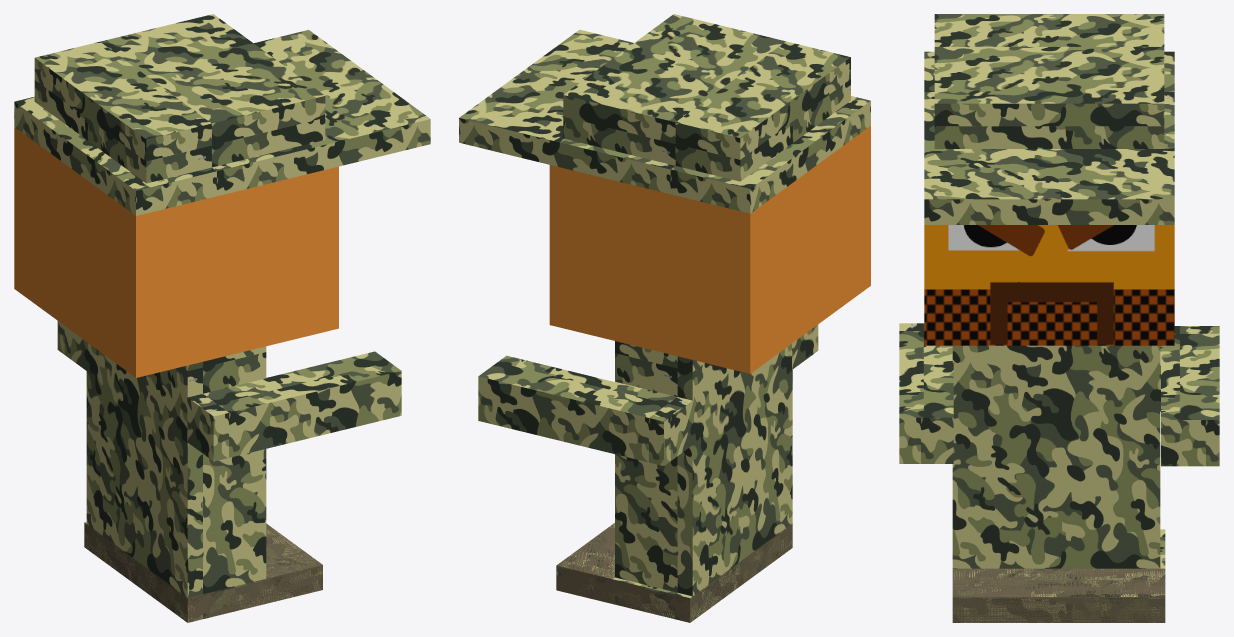
Rendered from machinegun.dae.
The picture shows the model from 3 angles, left to right: view 1: azimuth 30°, elevation 25°; view 2: azimuth 150°, elevation 25°; view 3: azimuth 270°, elevation 25°; orthographic projection. The views are drawn at different scales.
Parts seen in each view (by area): view 1: SketchUp (×5); view 2: SketchUp (×5); view 3: SketchUp (×4).
Part boxes in pixels (x1,y1,x2,y2): SketchUp (×5): (14, 14, 430, 622); SketchUp (×5): (459, 14, 870, 622); SketchUp (×4): (899, 14, 1219, 622).
Size of the model in its own units: 53.15 by 48.75 by 86.56.
7 materials, 2 textured.
